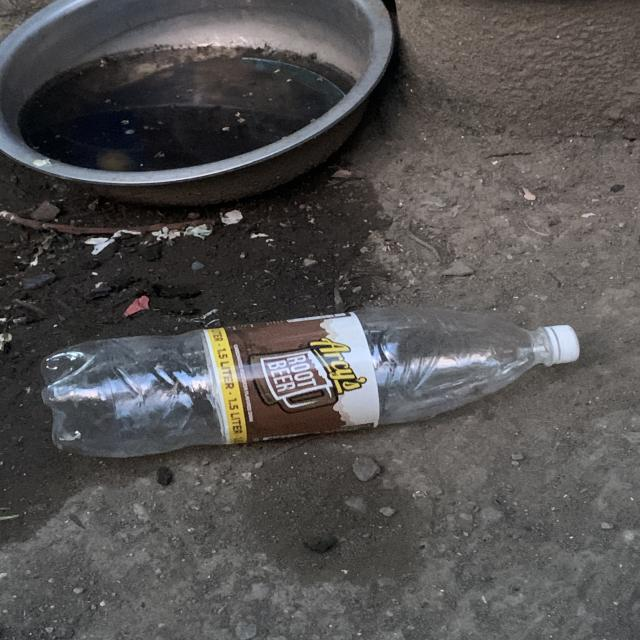Bottle: (42, 307, 579, 457)
